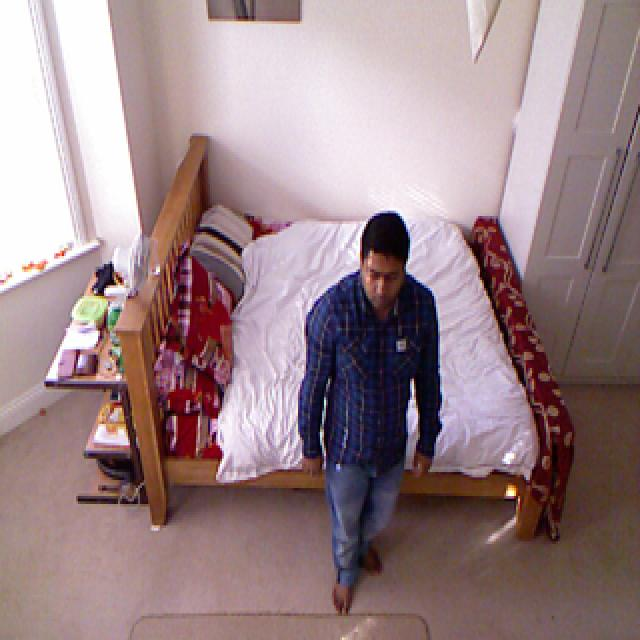standing: (298, 211, 442, 616)
